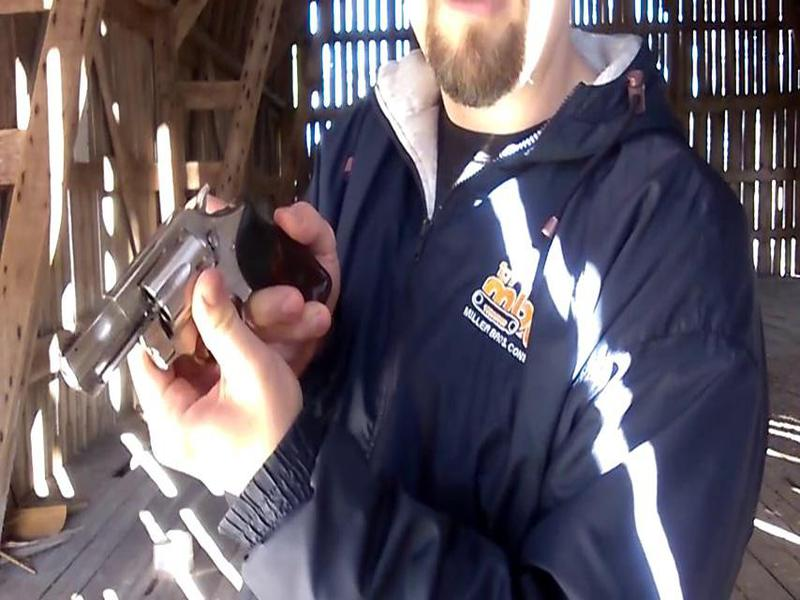Revolver: (57, 165, 335, 414)
